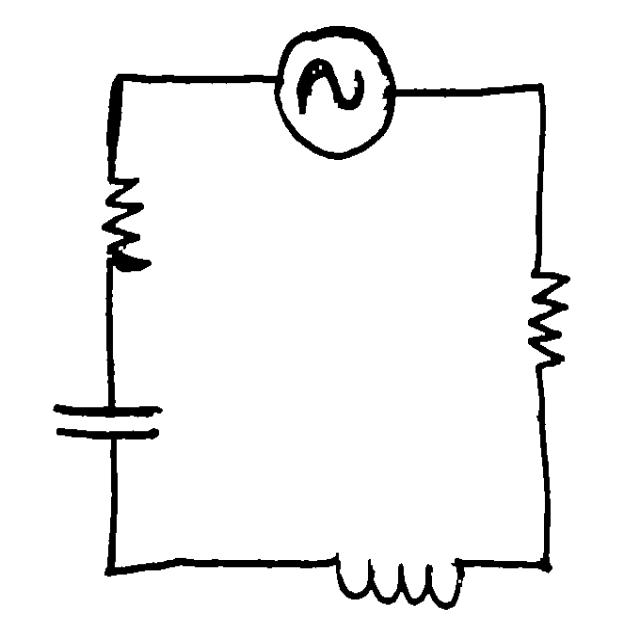ac: (257, 15, 413, 168)
capacitor: (42, 388, 185, 458)
inductor: (306, 534, 473, 621)
resistor: (78, 151, 168, 301), (506, 247, 579, 398)
